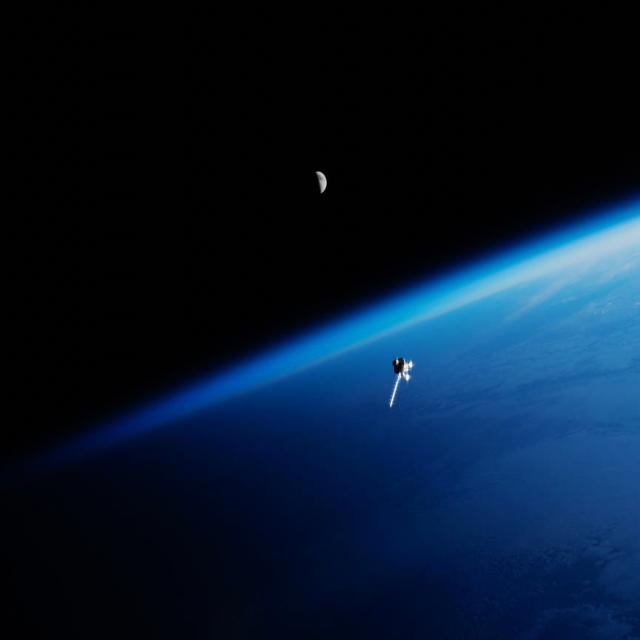satellite: (380, 335, 428, 419)
